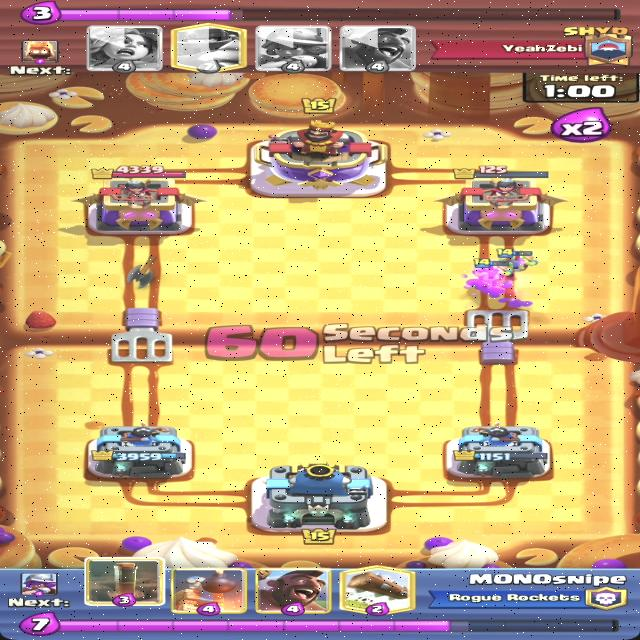Player-Goblin: (469, 257, 514, 286), (494, 248, 538, 276)
